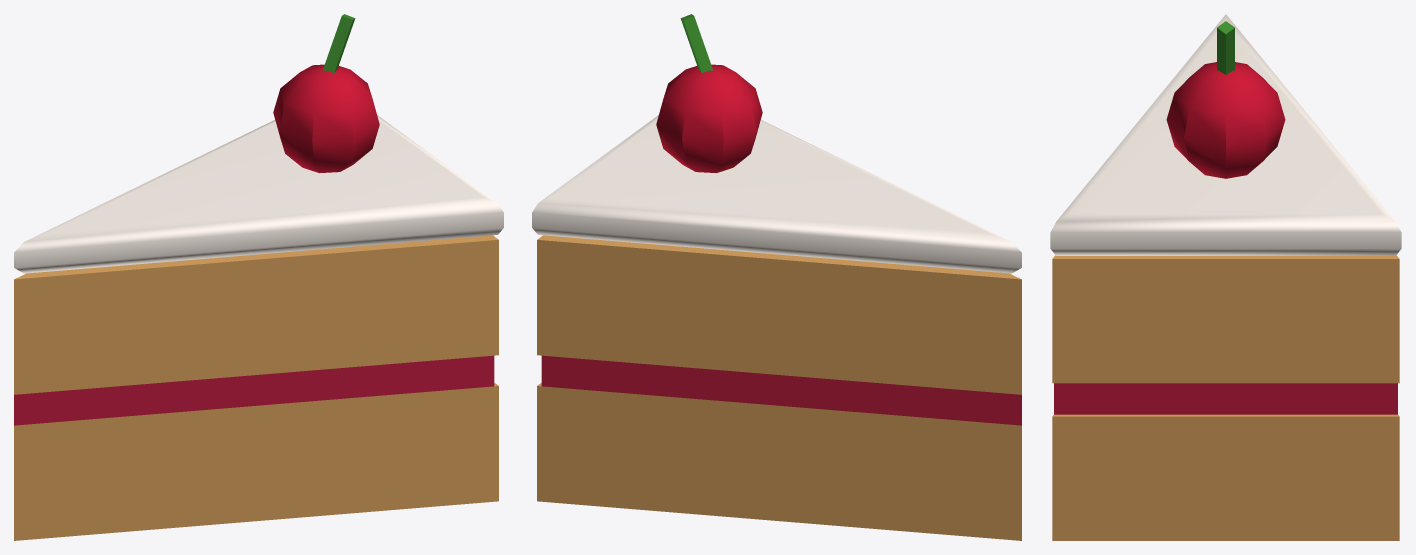
Rendered from CakeSlice.fbx.
3 renders of one model, left to right at view 1: azimuth 30°, elevation 25°; view 2: azimuth 150°, elevation 25°; view 3: azimuth 270°, elevation 25°, orthographic. The views are drawn at different scales.
Visible parts, largest first — view 1: CakeSlice; view 2: CakeSlice; view 3: CakeSlice.
Boxes of the visible parts, x1,y1,x2,y2 form: CakeSlice: [14, 14, 503, 540]; CakeSlice: [532, 14, 1021, 540]; CakeSlice: [1050, 14, 1401, 540].
Size of the model in its own units: 1.11 by 1.16 by 0.7676.
1 material, 1 textured.
